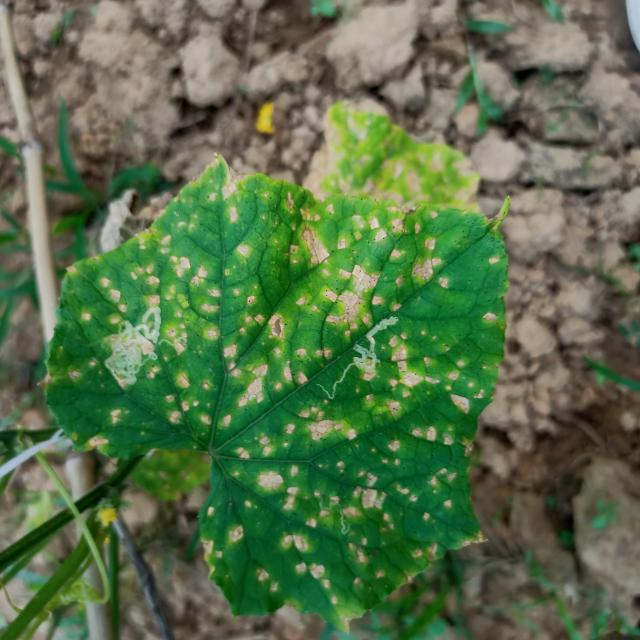disease_cucumber: (75, 190, 481, 598)
